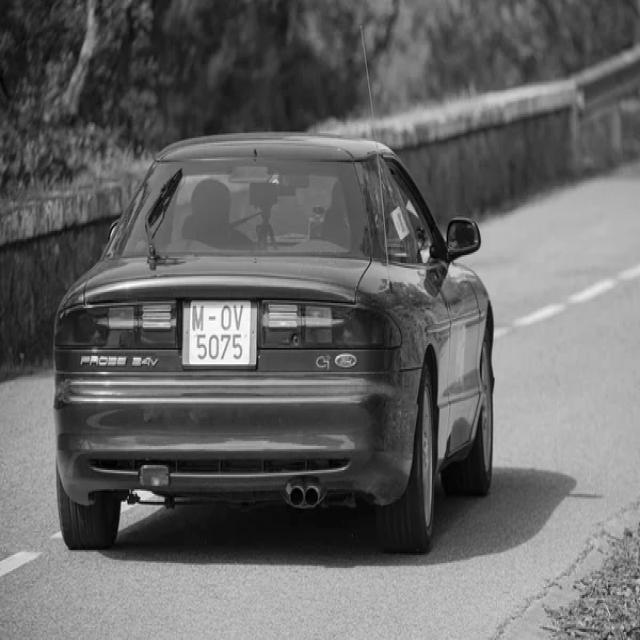Car: (55, 133, 495, 553)
